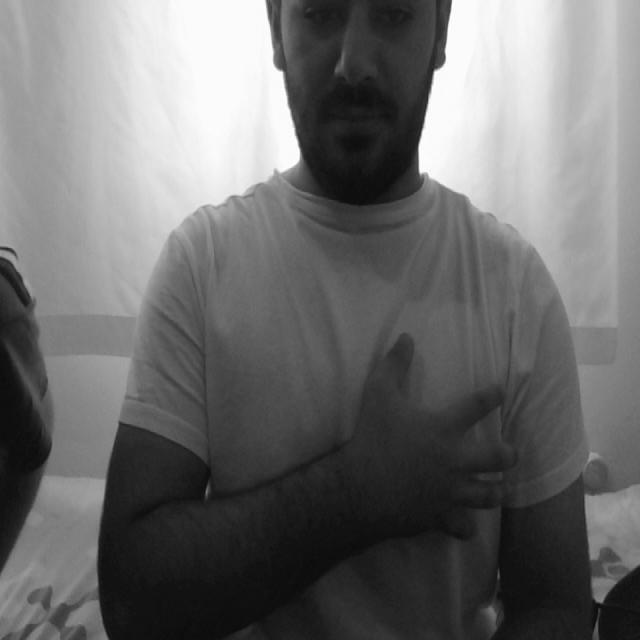Anne: (194, 322, 537, 566)
